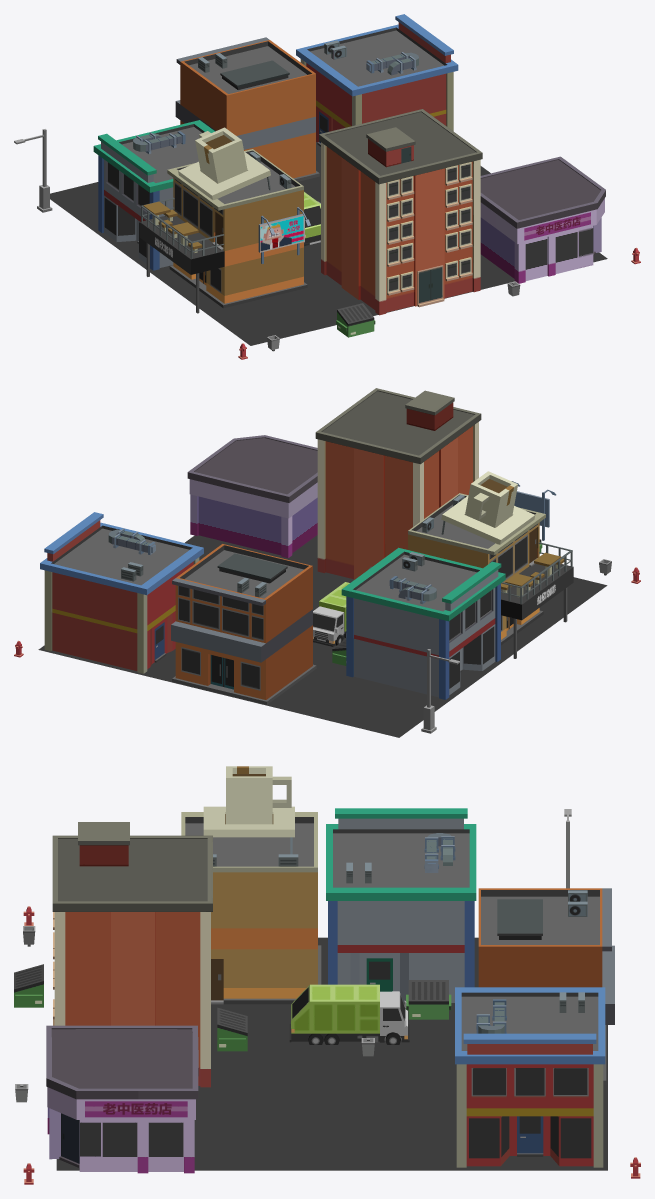
File: Commercial_1_hub.FBX
3 views of the same model, one above another, from view 1: azimuth 30°, elevation 25°; view 2: azimuth 150°, elevation 25°; view 3: azimuth 270°, elevation 25° (orthographic). The views are drawn at different scales.
Parts seen in each view (by area): view 1: Building_ApartmentLarge_Orange, Building_CoffeeShop, Building_Shop_02, Building_Shop_05, Building_StoreCorner_Drug, road_square_mesh, Building_Shop_03, billboard_mesh, dumpster_mesh, rubbish_truck_seperate_mesh, lamp_mesh; view 2: Building_ApartmentLarge_Orange, Building_Shop_02, Building_Shop_03, Building_Shop_05, Building_StoreCorner_Drug, road_square_mesh, Building_CoffeeShop, rubbish_truck_seperate_mesh, billboard_mesh, lamp_mesh; view 3: road_square_mesh, Building_ApartmentLarge_Orange, Building_Shop_05, Building_Shop_03, Building_CoffeeShop, Building_StoreCorner_Drug, Building_Shop_02, rubbish_truck_seperate_mesh, dumpster_mesh__2_, dumpster_mesh__1_, dumpster_mesh.
Part boxes in pixels (x1,y1,x2,y2): Building_ApartmentLarge_Orange: [319, 109, 482, 315]; Building_CoffeeShop: [139, 127, 307, 313]; Building_Shop_02: [175, 37, 319, 181]; Building_Shop_05: [296, 14, 458, 146]; Building_StoreCorner_Drug: [480, 156, 605, 283]; road_square_mesh: [50, 142, 607, 345]; Building_Shop_03: [93, 120, 214, 270]; billboard_mesh: [258, 207, 310, 263]; dumpster_mesh: [336, 303, 375, 337]; rubbish_truck_seperate_mesh: [304, 192, 320, 246]; lamp_mesh: [14, 129, 52, 212]; Building_ApartmentLarge_Orange: [315, 388, 481, 579]; Building_Shop_02: [171, 544, 316, 704]; Building_Shop_03: [341, 547, 505, 699]; Building_Shop_05: [40, 512, 203, 673]; Building_StoreCorner_Drug: [187, 435, 317, 558]; road_square_mesh: [38, 535, 607, 737]; Building_CoffeeShop: [408, 471, 573, 658]; rubbish_truck_seperate_mesh: [313, 582, 349, 646]; billboard_mesh: [511, 481, 556, 540]; lamp_mesh: [421, 649, 459, 733]; road_square_mesh: [56, 937, 607, 1170]; Building_ApartmentLarge_Orange: [52, 822, 212, 1087]; Building_Shop_05: [455, 987, 605, 1167]; Building_Shop_03: [326, 808, 476, 1002]; Building_CoffeeShop: [181, 766, 321, 1004]; Building_StoreCorner_Drug: [46, 1025, 198, 1173]; Building_Shop_02: [478, 888, 614, 1084]; rubbish_truck_seperate_mesh: [289, 984, 409, 1042]; dumpster_mesh__2_: [406, 980, 451, 1019]; dumpster_mesh__1_: [217, 1007, 247, 1051]; dumpster_mesh: [14, 964, 43, 1007].
Bounding box in the file's own units: 46830 × 16795 × 45031.
Materials: 8 (8 with a texture image).
